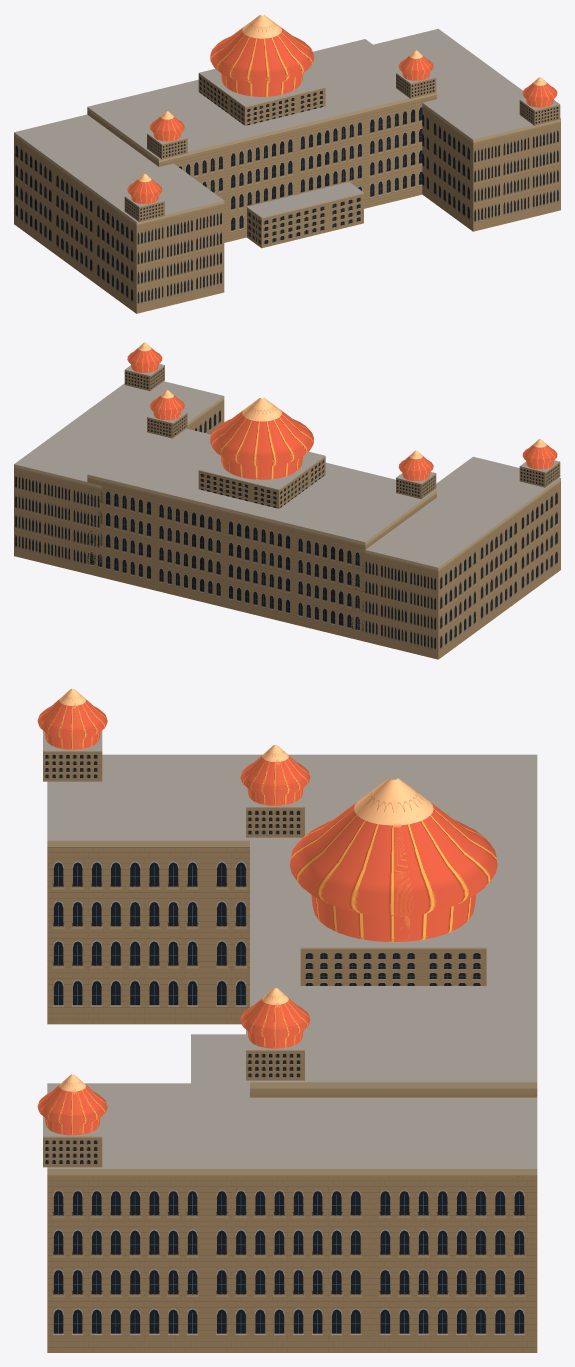
Rendered from taj_mahal_palace_hotel.glb.
3 views of the same model, one above another, from view 1: azimuth 30°, elevation 25°; view 2: azimuth 150°, elevation 25°; view 3: azimuth 270°, elevation 25° (orthographic). The views are drawn at different scales.
Parts seen in each view (by area): view 1: The_Taj_Mahal_Palace_Hotel; view 2: The_Taj_Mahal_Palace_Hotel; view 3: The_Taj_Mahal_Palace_Hotel.
Boxes of the visible parts, x1,y1,x2,y2 form: The_Taj_Mahal_Palace_Hotel: [14, 15, 560, 313]; The_Taj_Mahal_Palace_Hotel: [14, 342, 560, 659]; The_Taj_Mahal_Palace_Hotel: [37, 689, 537, 1352].
Size of the model in its own units: 116 by 48 by 59.15.
3 materials, 2 textured.
